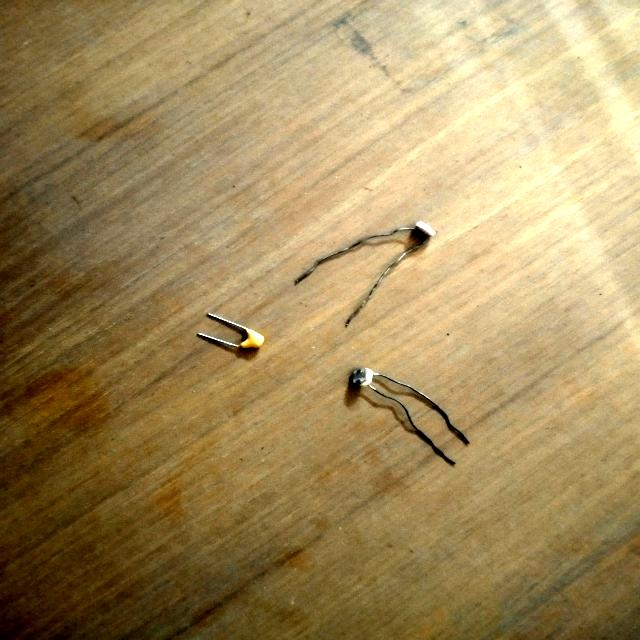capacitor: (202, 317, 264, 360)
